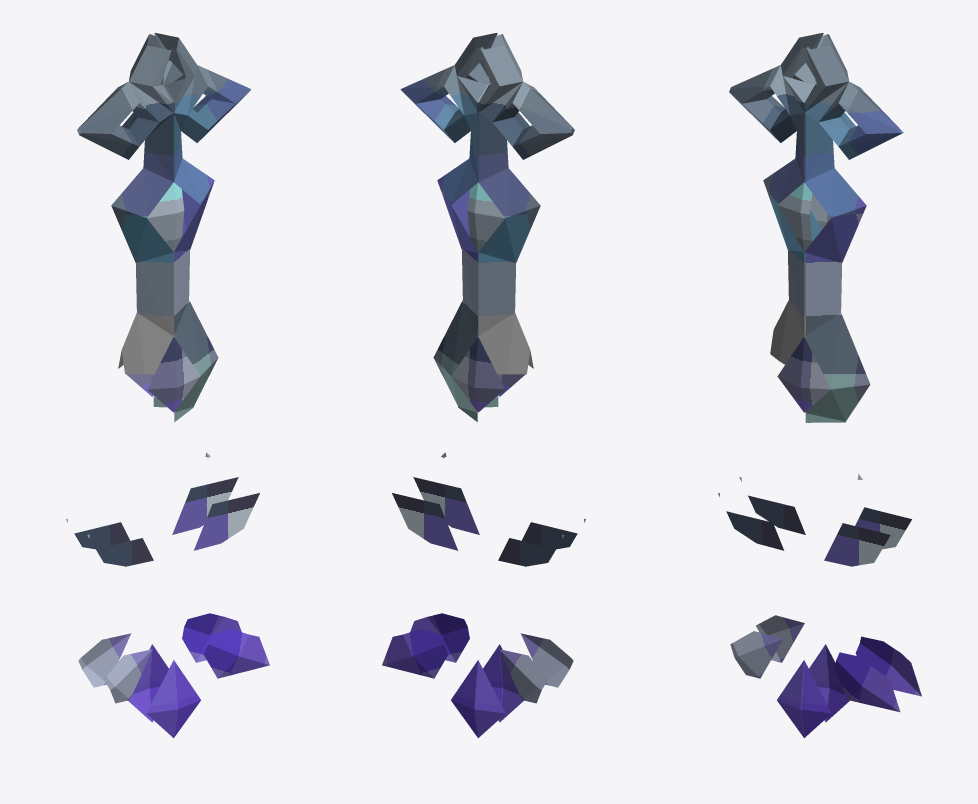
Rendered from quintet.obj.
3 views of the same model, side by side, from view 1: azimuth 30°, elevation 25°; view 2: azimuth 150°, elevation 25°; view 3: azimuth 330°, elevation 25° (orthographic).
Bounding box in the file's own units: 47.73 × 119 × 8.
